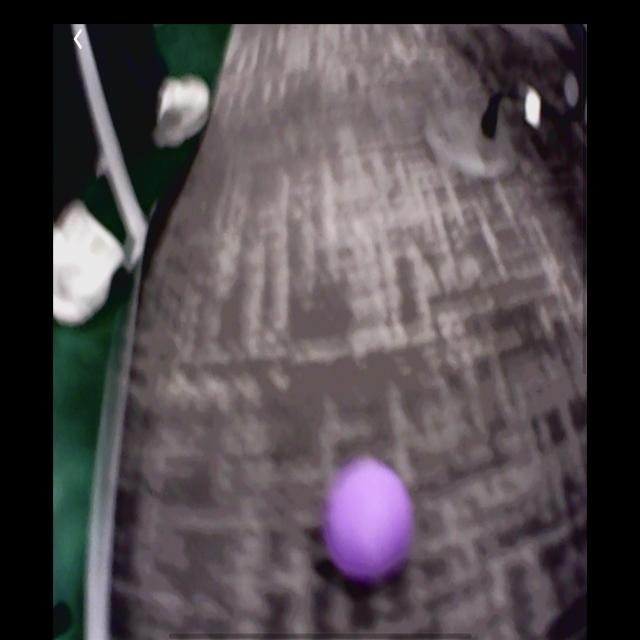ball: (322, 461, 415, 586)
